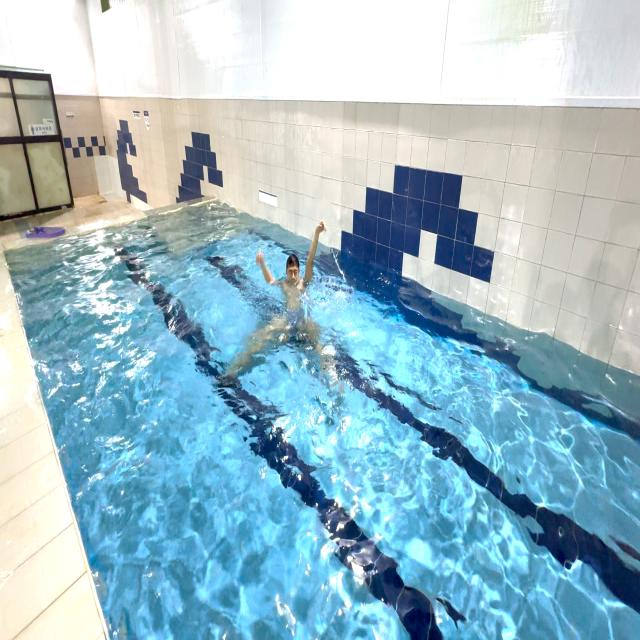Drowning: (245, 208, 342, 378)
